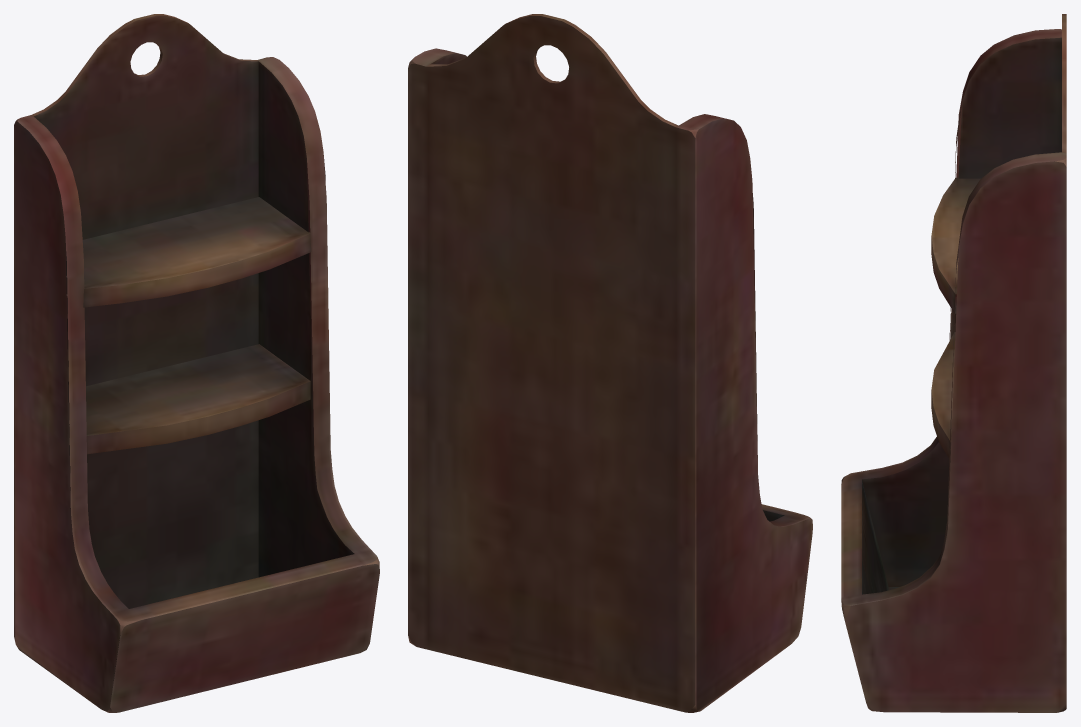
File: shelves.gltf
The picture shows the model from 3 angles, left to right: view 1: azimuth 30°, elevation 25°; view 2: azimuth 150°, elevation 25°; view 3: azimuth 270°, elevation 25°; orthographic projection. The views are drawn at different scales.
Visible parts, largest first — view 1: painted_wooden_shelves; view 2: painted_wooden_shelves; view 3: painted_wooden_shelves.
Part boxes in pixels (x1,y1,x2,y2): painted_wooden_shelves: [14, 14, 379, 712]; painted_wooden_shelves: [408, 14, 812, 712]; painted_wooden_shelves: [841, 14, 1066, 712].
Size of what is drawn, in the model's own units: 0.5111 by 1.12 by 0.3671.
Materials: 1 (1 with a texture image).
